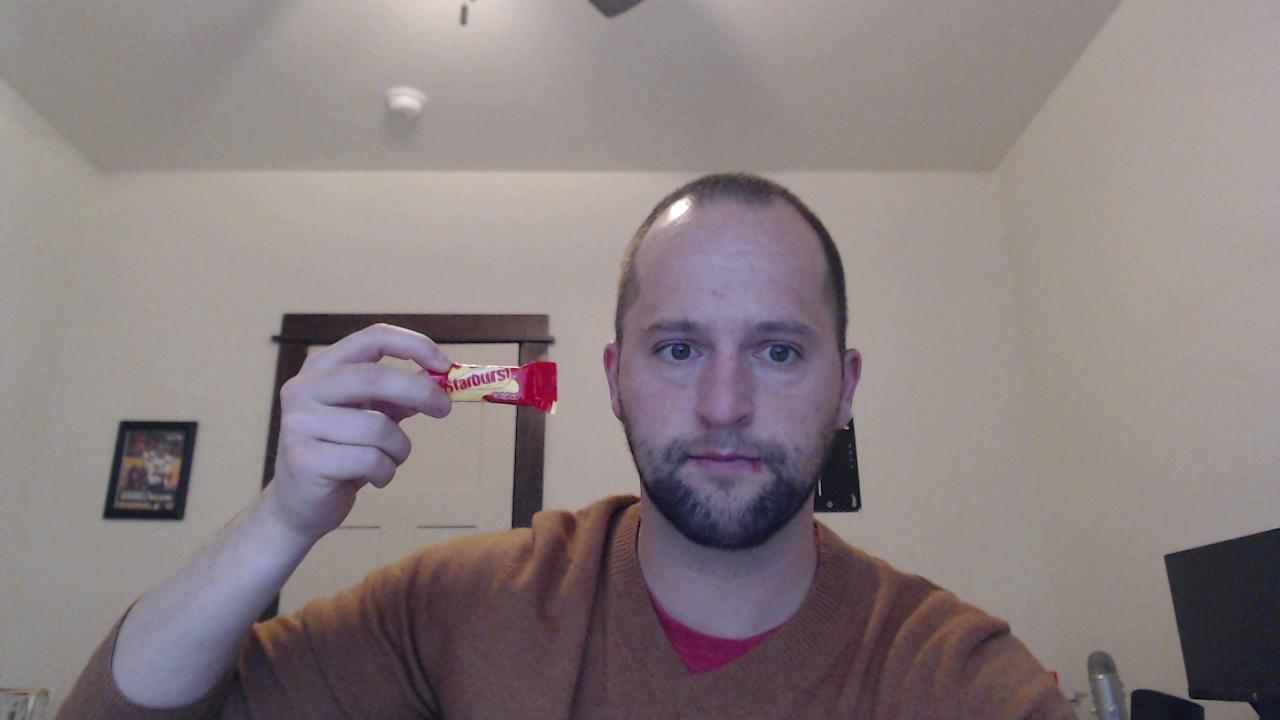starburst: (421, 360, 559, 412)
